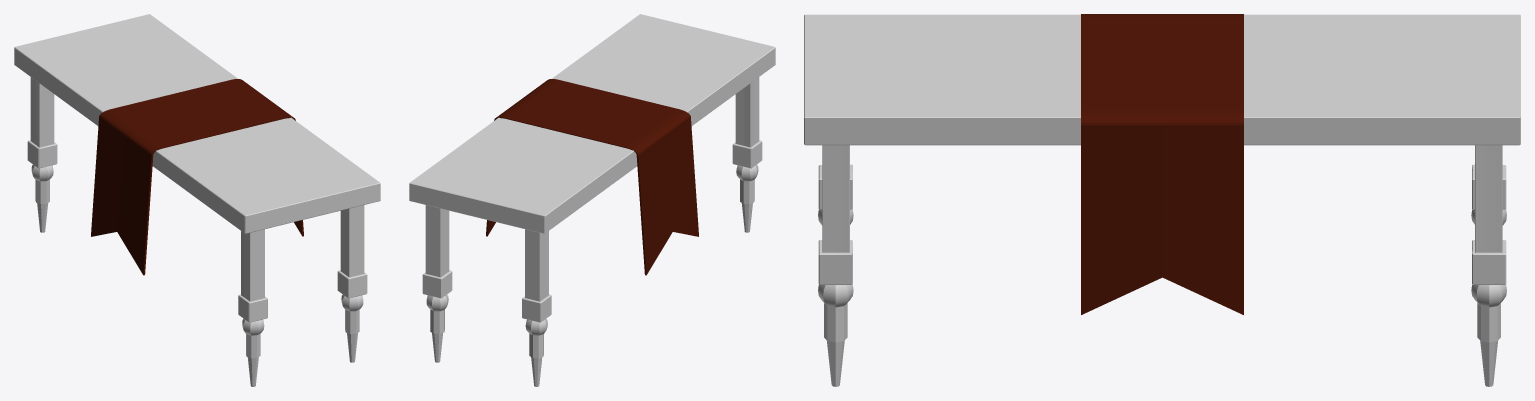
File: Table.fbx
3 views of the same model, side by side, from view 1: azimuth 30°, elevation 25°; view 2: azimuth 150°, elevation 25°; view 3: azimuth 270°, elevation 25° (orthographic). The views are drawn at different scales.
Visible parts, largest first — view 1: Cube; view 2: Cube; view 3: Cube.
Part boxes in pixels (x1,y1,x2,y2): Cube: (14,14,380,386); Cube: (409,14,775,386); Cube: (804,14,1520,386).
Size of the model in its own units: 492 by 535 by 1225.
